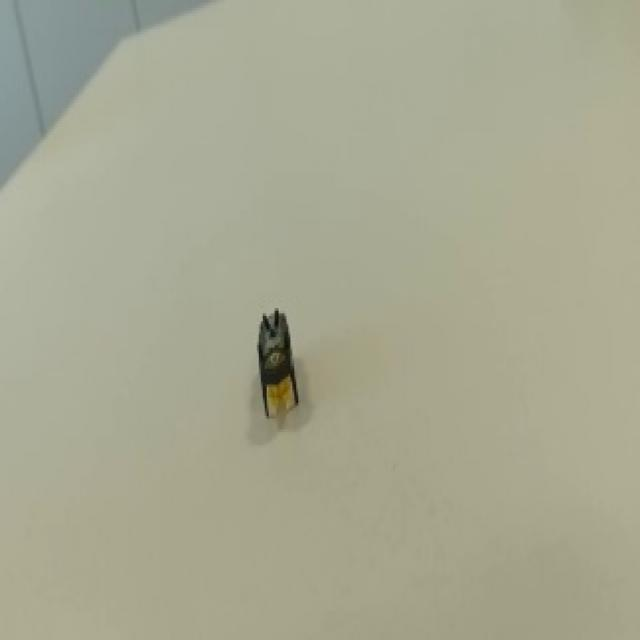6_NanoBug_GrisOscuro: (228, 280, 332, 413)
